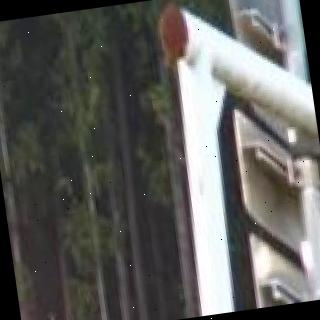fire: (6, 215, 34, 320)
